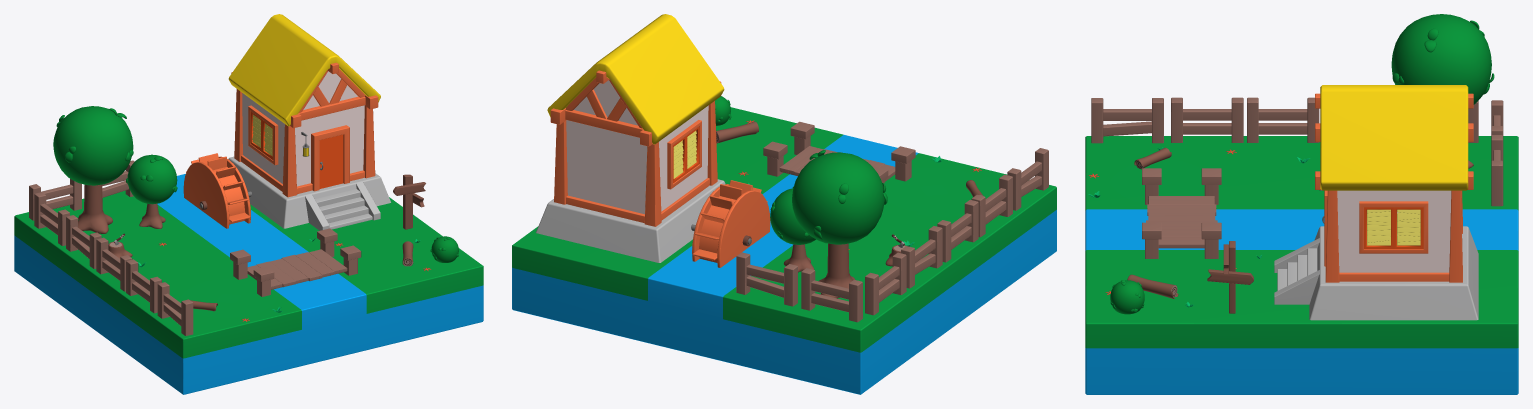
The model's file is Farm_Island_7.glb.
3 renders of one model, left to right at view 1: azimuth 30°, elevation 25°; view 2: azimuth 150°, elevation 25°; view 3: azimuth 270°, elevation 25°, orthographic. The views are drawn at different scales.
Visible parts, largest first — view 1: Farm_7_Base_1, Farm_7_Water_mill_1, Farm_7_Tree_1, Farm_7_Bridge_1, Farm_7_Tree_2, Farm_7_Fence_5, Farm_7_Fence_1, Farm_7_Fence_3, Farm_7_Fence_8, Farm_7_Fence_4, Farm_7_Fence_6, Farm_7_Signpost_1 (+2 smaller); view 2: Farm_7_Base_1, Farm_7_Water_mill_1, Farm_7_Tree_1, Farm_7_Bridge_1, Farm_7_Fence_2, Farm_7_Fence_1, Farm_7_Tree_2, Farm_7_Fence_3, Farm_7_Fence_6, Farm_7_Fence_4, Farm_7_Fence_5, Farm_7_Fence_8 (+1 smaller); view 3: Farm_7_Base_1, Farm_7_Water_mill_1, Farm_7_Tree_1, Farm_7_Bridge_1, Farm_7_Fence_5, Farm_7_Fence_8, Farm_7_Fence_6, Farm_7_Signpost_1, Farm_7_Bush_1, Farm_7_Fence_2, Farm_7_Log_1, Farm_7_Fence_1 (+1 smaller).
Boxes of the visible parts, <box> form: Farm_7_Base_1: <box>14,174,483,394</box>; Farm_7_Water_mill_1: <box>183,14,390,230</box>; Farm_7_Tree_1: <box>53,106,133,233</box>; Farm_7_Bridge_1: <box>230,228,361,296</box>; Farm_7_Tree_2: <box>126,154,177,228</box>; Farm_7_Fence_5: <box>157,282,193,335</box>; Farm_7_Fence_1: <box>29,179,81,220</box>; Farm_7_Fence_3: <box>34,192,69,245</box>; Farm_7_Fence_8: <box>126,259,161,313</box>; Farm_7_Fence_4: <box>66,215,101,268</box>; Farm_7_Fence_6: <box>96,237,132,291</box>; Farm_7_Signpost_1: <box>393,174,425,229</box>; Farm_7_Base_1: <box>512,107,1056,394</box>; Farm_7_Water_mill_1: <box>536,14,770,267</box>; Farm_7_Tree_1: <box>792,150,887,298</box>; Farm_7_Bridge_1: <box>763,121,915,183</box>; Farm_7_Fence_2: <box>736,252,797,306</box>; Farm_7_Fence_1: <box>801,268,862,322</box>; Farm_7_Tree_2: <box>770,186,815,272</box>; Farm_7_Fence_3: <box>865,252,906,315</box>; Farm_7_Fence_6: <box>937,199,978,262</box>; Farm_7_Fence_4: <box>901,226,942,288</box>; Farm_7_Fence_5: <box>1007,148,1048,210</box>; Farm_7_Fence_8: <box>971,174,1012,237</box>; Farm_7_Base_1: <box>1085,136,1518,394</box>; Farm_7_Water_mill_1: <box>1274,85,1478,320</box>; Farm_7_Tree_1: <box>1391,14,1494,168</box>; Farm_7_Bridge_1: <box>1142,168,1221,258</box>; Farm_7_Fence_5: <box>1091,98,1163,143</box>; Farm_7_Fence_8: <box>1171,97,1243,142</box>; Farm_7_Fence_6: <box>1247,97,1319,142</box>; Farm_7_Signpost_1: <box>1207,241,1253,313</box>; Farm_7_Bush_1: <box>1110,280,1144,314</box>; Farm_7_Fence_2: <box>1491,135,1503,206</box>; Farm_7_Log_1: <box>1127,274,1178,298</box>; Farm_7_Fence_1: <box>1491,100,1503,135</box>.
Bounding box in the file's own units: 14.23 × 9.61 × 13.86.
Materials: 30 (30 with a texture image).
